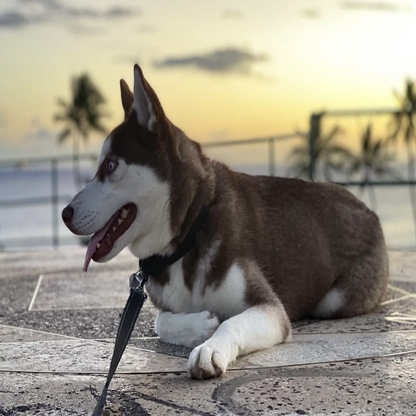husky: (62, 61, 391, 384)
